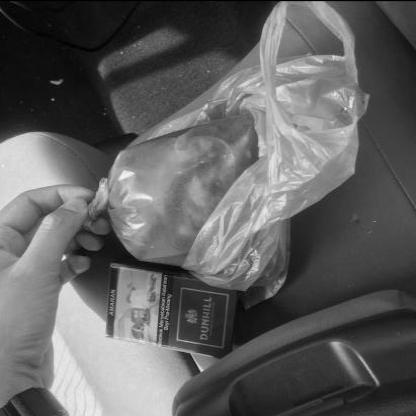objects: (106, 262, 237, 358)
